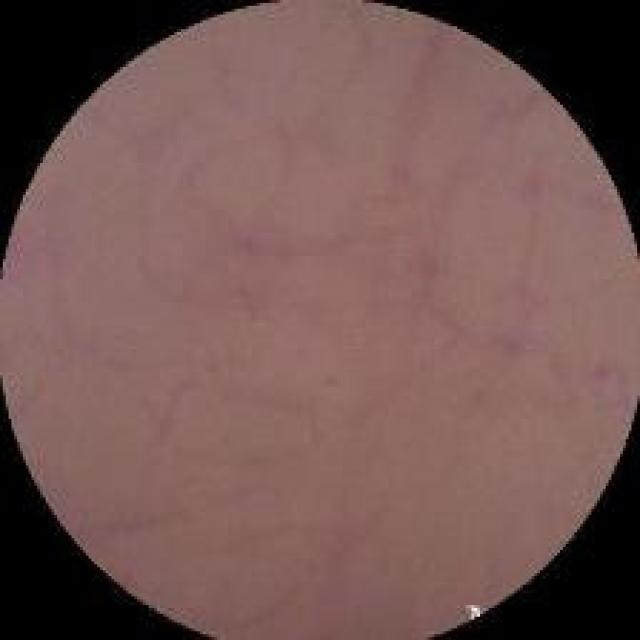blur: (5, 5, 632, 633)
color misalignment: (463, 598, 483, 631)
